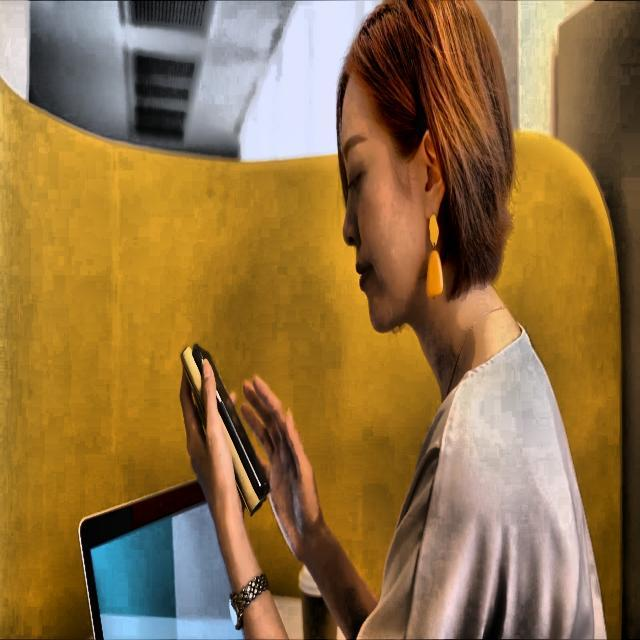Phone: (182, 333, 274, 521)
